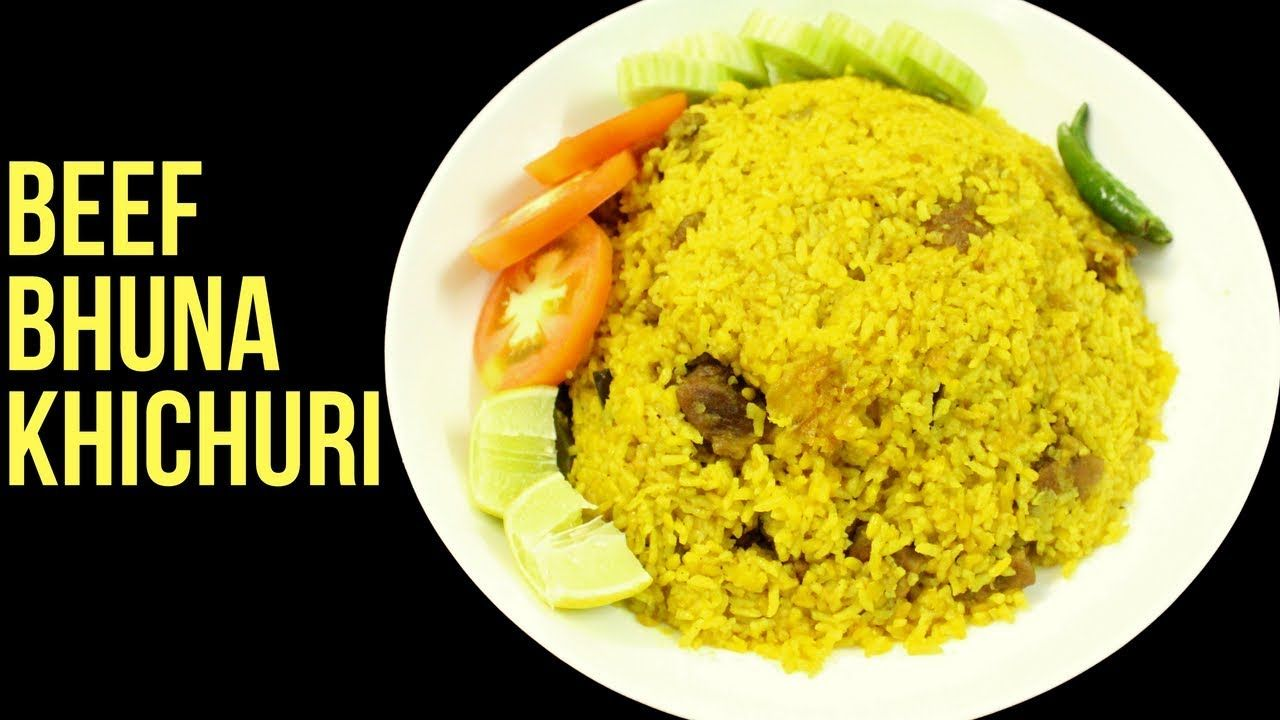khichuri: (605, 99, 1181, 648)
